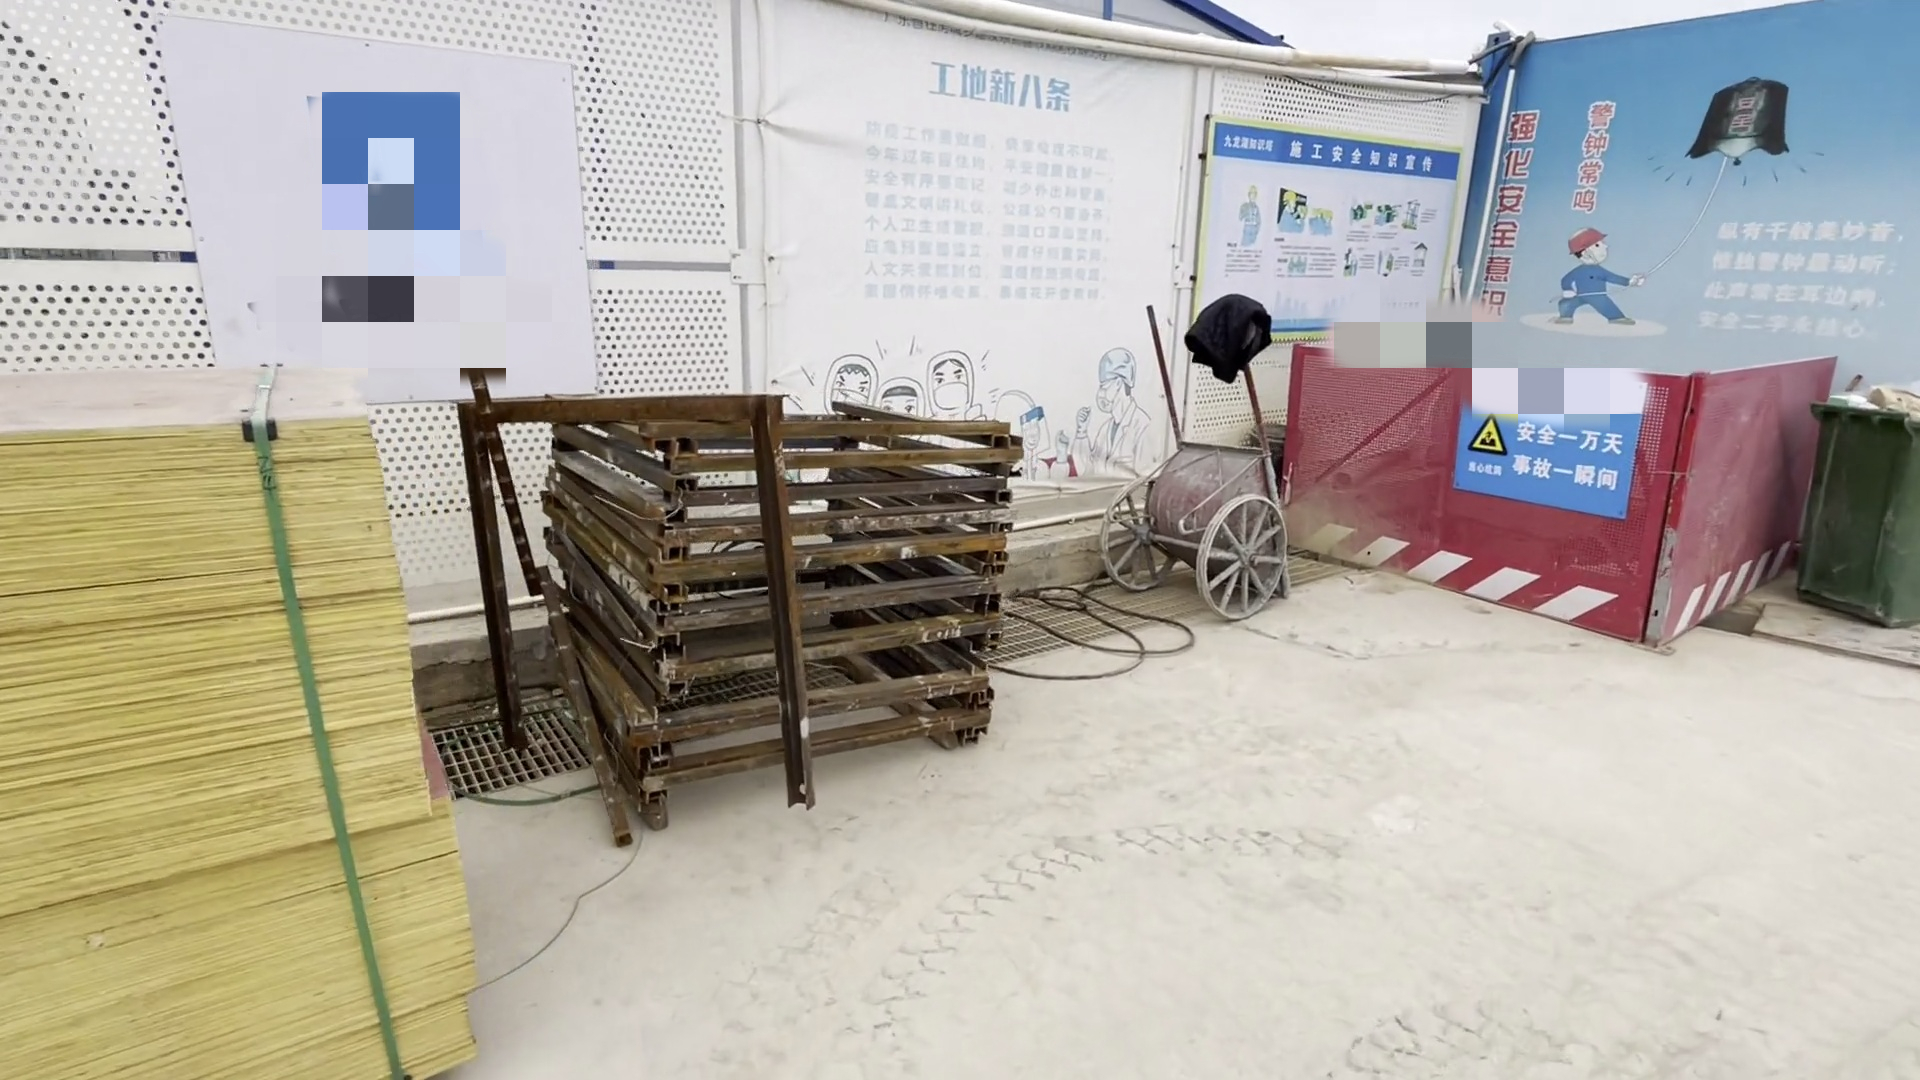handcart: (1104, 294, 1312, 618)
slogan: (1460, 396, 1644, 525)
